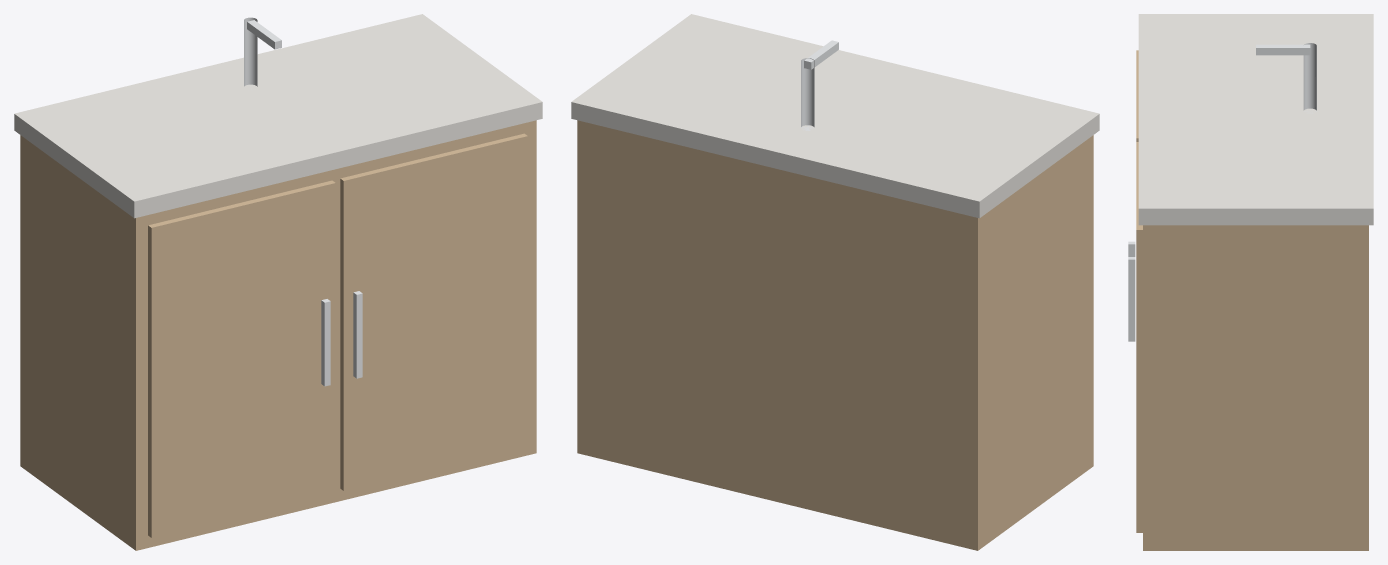
The model's file is BATH_VANITY001.glb.
3 views of the same model, side by side, from view 1: azimuth 30°, elevation 25°; view 2: azimuth 150°, elevation 25°; view 3: azimuth 270°, elevation 25° (orthographic). The views are drawn at different scales.
Parts seen in each view (by area): view 1: FurnitureRoot; view 2: FurnitureRoot; view 3: FurnitureRoot.
Boxes of the visible parts, <box> form: FurnitureRoot: <box>14,14,542,550</box>; FurnitureRoot: <box>571,14,1099,550</box>; FurnitureRoot: <box>1128,14,1373,550</box>.
Bounding box in the file's own units: 102 × 100 × 54.25.
